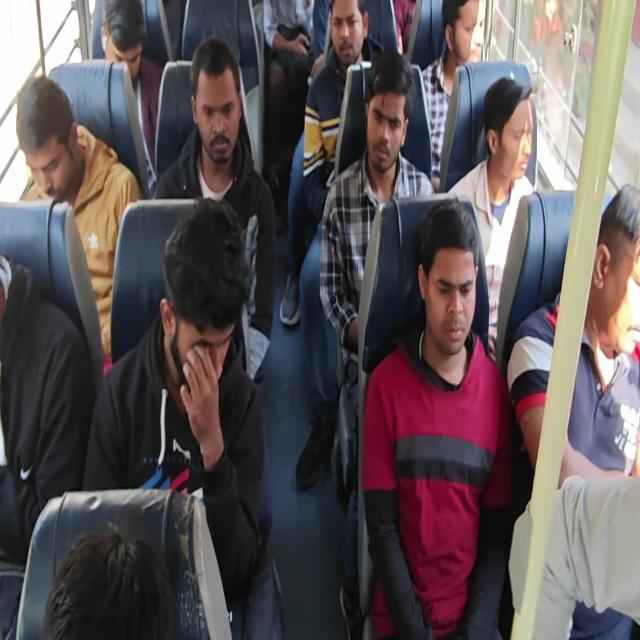person: (1, 1, 638, 638), (82, 197, 282, 638), (361, 199, 513, 638), (506, 182, 640, 638), (318, 49, 436, 492), (153, 35, 277, 382), (16, 74, 142, 374), (0, 250, 94, 637), (279, 0, 384, 326), (447, 75, 535, 361), (41, 520, 177, 638), (99, 0, 162, 196), (420, 0, 481, 191), (263, 0, 317, 189), (392, 0, 416, 56)
